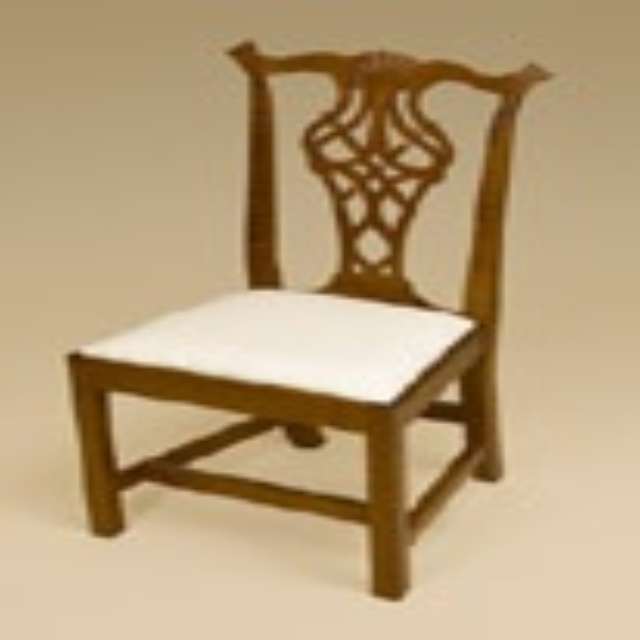obstacle: (68, 43, 541, 593)
